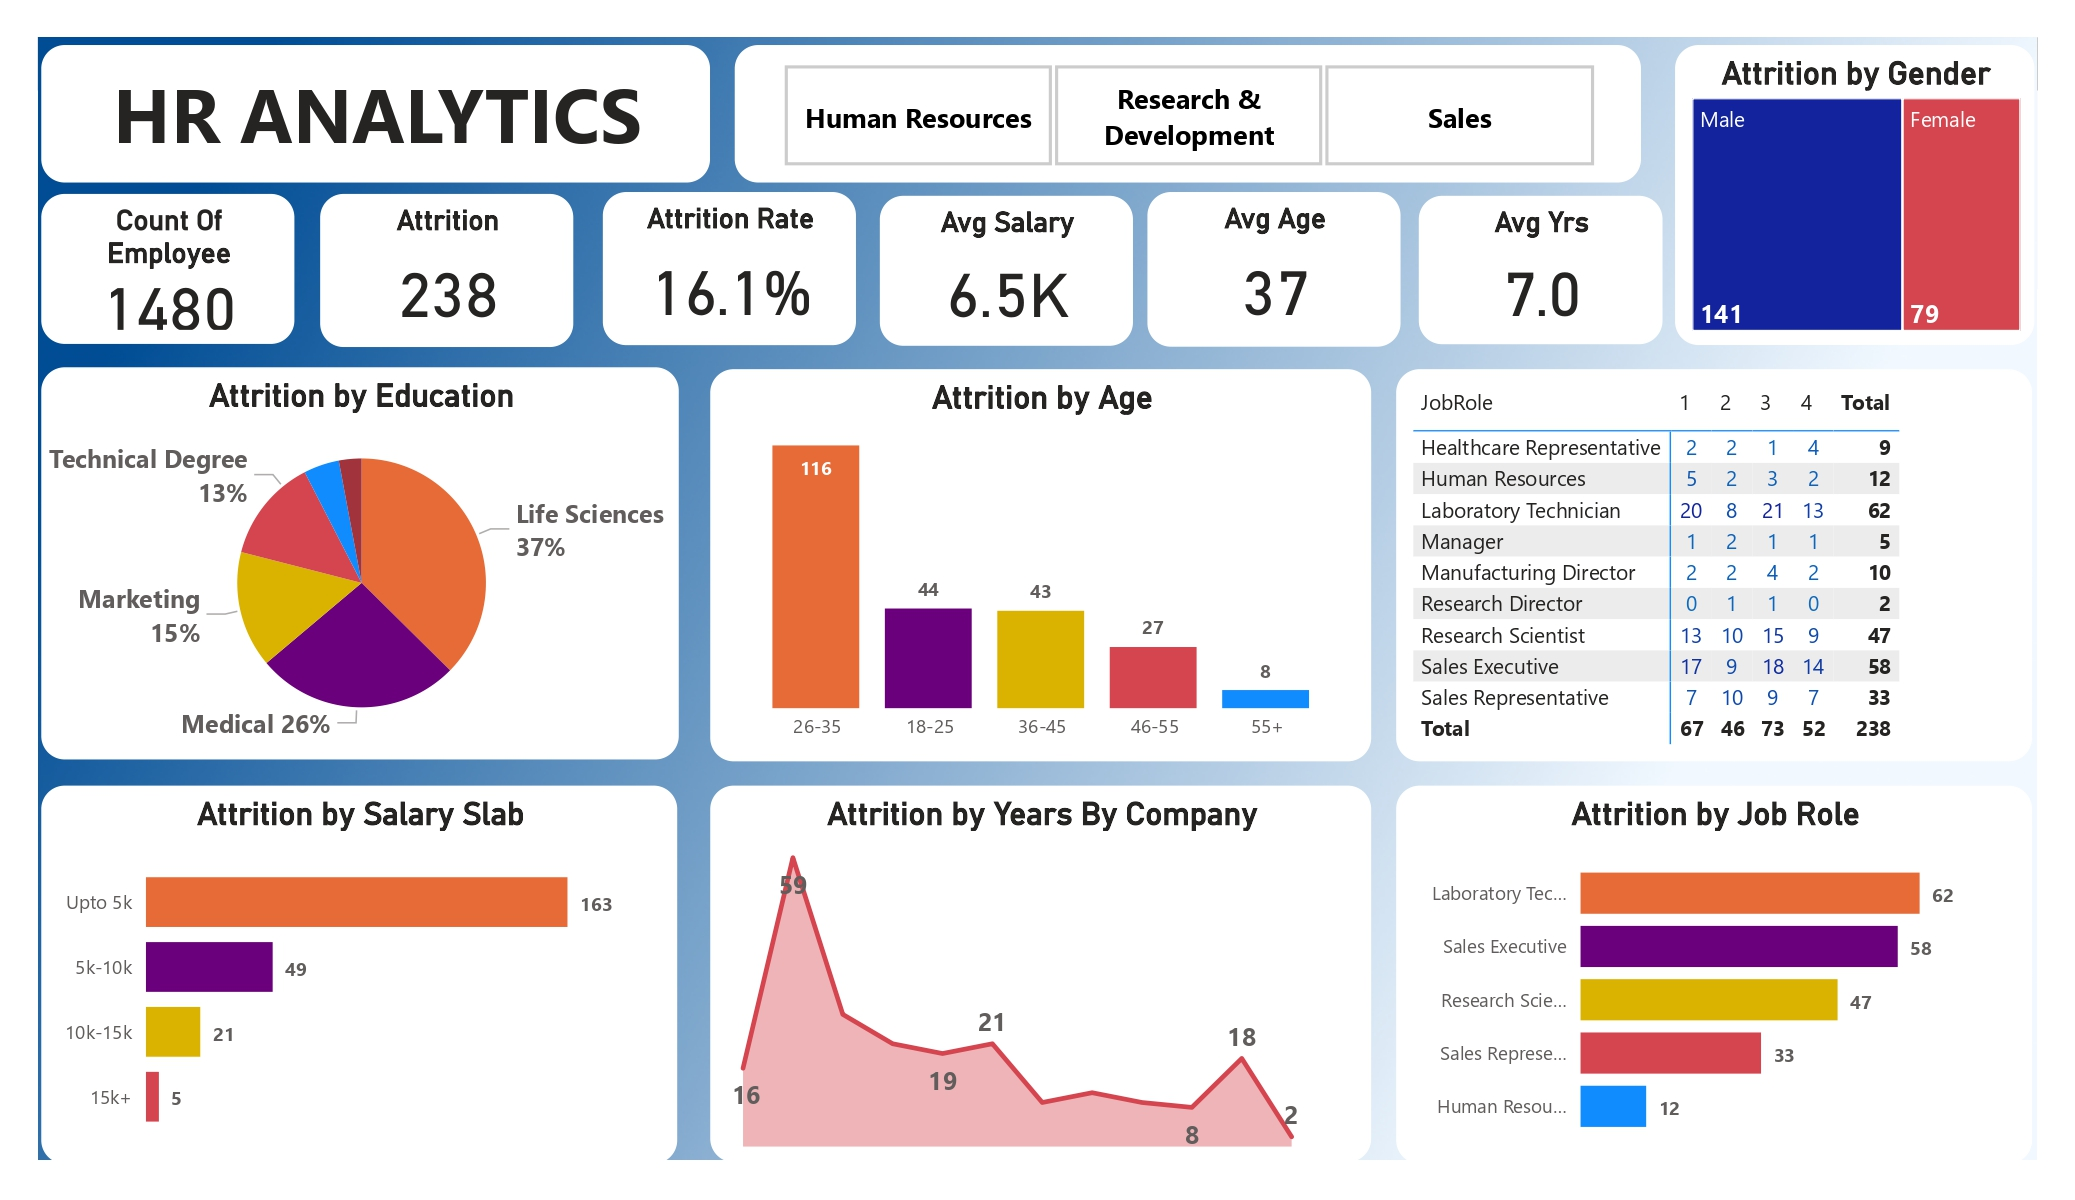

This screenshot's page, from the dashboard's own definition file:
{"tool":"powerbi","page":{"name":"Page 1","canvas":[1280,720],"ordinal":0},"visuals":[{"type":"card","title":"Count Of Employee","fields":{"Values":["Sum(HR_Analytics.EmployeeCount)"]},"box":[2.4,100,161.9,96.4],"z":0},{"type":"card","title":"Attrition","fields":{"Values":["Sum(HR_Analytics.AttritionCount)"]},"box":[180.9,100.1,161.6,97.7],"z":1},{"type":"card","title":"Attrition Rate","fields":{"Values":["HR_Analytics.AttritionRate"]},"box":[361.8,98.9,161.6,97.7],"z":2},{"type":"card","title":"Avg Age","fields":{"Values":["Avg(HR_Analytics.Age)"]},"box":[710.4,98.9,161.6,98.9],"z":3},{"type":"card","title":"Avg Salary","fields":{"Values":["Avg(HR_Analytics.MonthlyIncome)"]},"box":[539.1,101.3,161.6,96.5],"z":4},{"type":"card","title":"Avg Yrs","fields":{"Values":["Avg(HR_Analytics.YearsAtCompany)"]},"box":[884,101.3,155.6,95.3],"z":5},{"type":"pieChart","title":"Attrition by Education","fields":{"Category":["HR_Analytics.EducationField"],"Y":["Sum(HR_Analytics.AttritionCount)"]},"box":[2.4,210.6,408.2,251.1],"z":6},{"type":"columnChart","title":"Attrition by Age","fields":{"Category":["HR_Analytics.AgeGroup"],"Y":["Sum(HR_Analytics.AttritionCount)"]},"box":[430.6,212.3,423.3,250.9],"z":7},{"type":"pivotTable","title":"Attrition by Age","fields":{"Rows":["HR_Analytics.JobRole"],"Columns":["HR_Analytics.JobSatisfaction"],"Values":["Sum(HR_Analytics.AttritionCount)"]},"box":[870,211.8,407,251.1],"z":8},{"type":"barChart","title":"Attrition by Salary Slab","fields":{"Category":["HR_Analytics.SalarySlab"],"Y":["Sum(HR_Analytics.AttritionCount)"]},"box":[2.4,478.4,407,241.6],"z":9},{"type":"barChart","title":"Attrition by Job Role","fields":{"Category":["HR_Analytics.JobRole"],"Y":["Sum(HR_Analytics.AttritionCount)"]},"box":[870,478.4,407,241.6],"z":10},{"type":"areaChart","title":"Attrition by Years By Company","fields":{"Category":["HR_Analytics.YearsAtCompany"],"Y":["Sum(HR_Analytics.AttritionCount)"]},"box":[430.6,478.8,423.3,241.2],"z":11},{"type":"treemap","title":"Attrition by Gender","fields":{"Group":["HR_Analytics.Gender"],"Values":["Sum(HR_Analytics.AttritionCount)"]},"box":[1048.5,4.8,229.7,191.6],"z":12},{"type":"slicer","fields":{"Values":["HR_Analytics.Department"]},"box":[446.3,4.8,579.6,88.1],"z":13},{"type":"textbox","box":[2.4,4.8,428.4,88.1],"z":14}]}

Visuals, with their boxes in screenshot pixels (x1, y1, x2, y2):
"Count Of Employee" card: {"x1": 31, "y1": 193, "x2": 299, "y2": 353}
"Attrition" card: {"x1": 327, "y1": 193, "x2": 595, "y2": 355}
"Attrition Rate" card: {"x1": 627, "y1": 191, "x2": 895, "y2": 353}
"Avg Age" card: {"x1": 1204, "y1": 191, "x2": 1472, "y2": 355}
"Avg Salary" card: {"x1": 921, "y1": 195, "x2": 1188, "y2": 355}
"Avg Yrs" card: {"x1": 1492, "y1": 195, "x2": 1750, "y2": 353}
"Attrition by Education" pieChart: {"x1": 31, "y1": 376, "x2": 708, "y2": 792}
"Attrition by Age" columnChart: {"x1": 741, "y1": 379, "x2": 1442, "y2": 795}
"Attrition by Age" pivotTable: {"x1": 1469, "y1": 378, "x2": 2074, "y2": 794}
"Attrition by Salary Slab" barChart: {"x1": 31, "y1": 820, "x2": 706, "y2": 1199}
"Attrition by Job Role" barChart: {"x1": 1469, "y1": 820, "x2": 2074, "y2": 1199}
"Attrition by Years By Company" areaChart: {"x1": 741, "y1": 821, "x2": 1442, "y2": 1199}
"Attrition by Gender" treemap: {"x1": 1765, "y1": 35, "x2": 2074, "y2": 353}
slicer - HR_Analytics.Department: {"x1": 767, "y1": 35, "x2": 1727, "y2": 181}
textbox: {"x1": 31, "y1": 35, "x2": 741, "y2": 181}
